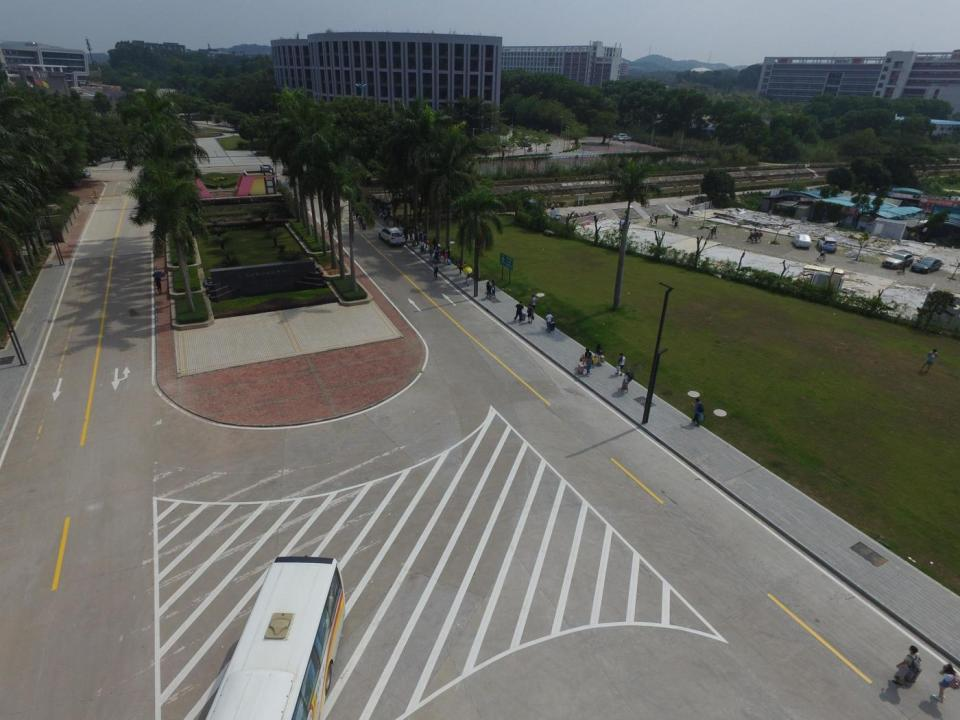bus: (196, 555, 351, 720)
car: (909, 256, 944, 274), (378, 225, 406, 247), (881, 251, 914, 269), (791, 233, 813, 248), (817, 236, 837, 252), (68, 167, 92, 178), (153, 274, 164, 296), (516, 140, 532, 146), (618, 136, 633, 141), (616, 133, 628, 139), (612, 133, 622, 139)
